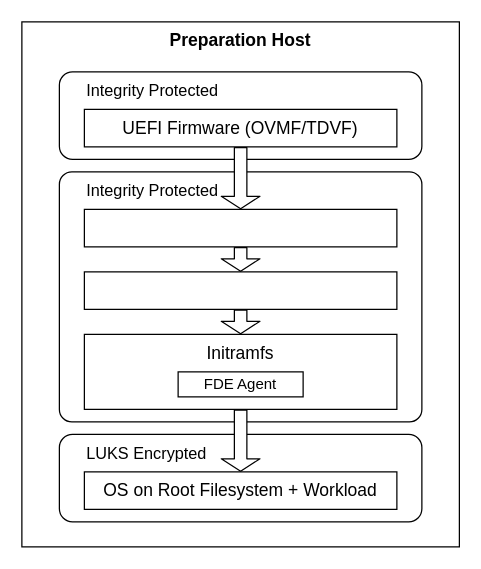
This 481x569 diagram has some shape labels left out. The shapes that lost their labels are listed below. From the top down, each one's centre as x and y in pixels, then its label:
the point at 240,227: Bootloader (GRUB, shim, ...)
the point at 240,290: Linux Kernel
